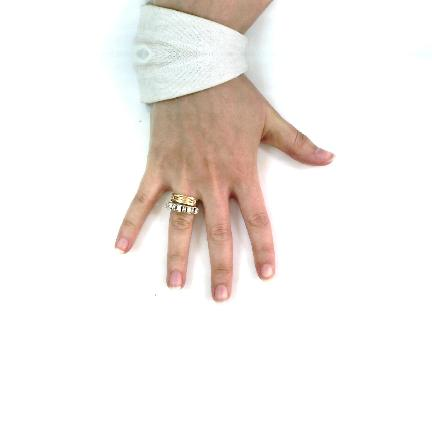Nail: (315, 147, 336, 162), (214, 285, 229, 305), (260, 264, 274, 282), (169, 271, 182, 290), (115, 237, 129, 254)
